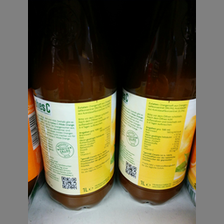juice: (31, 3, 120, 212), (120, 9, 196, 206)
